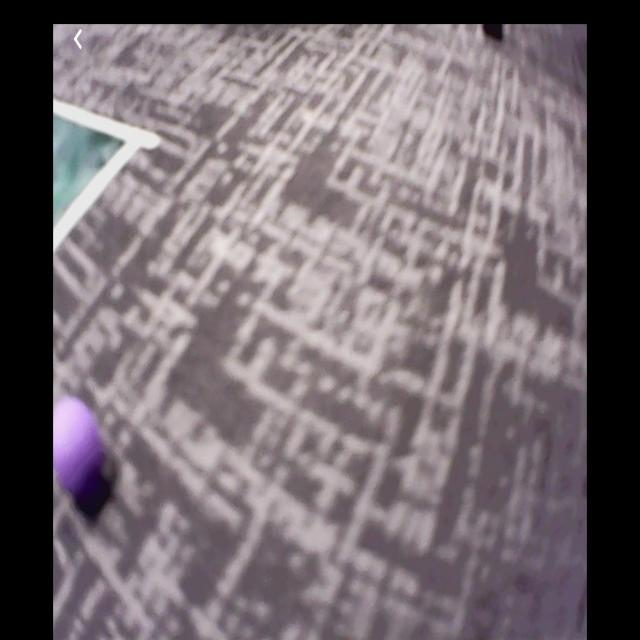ball: (55, 400, 106, 497)
